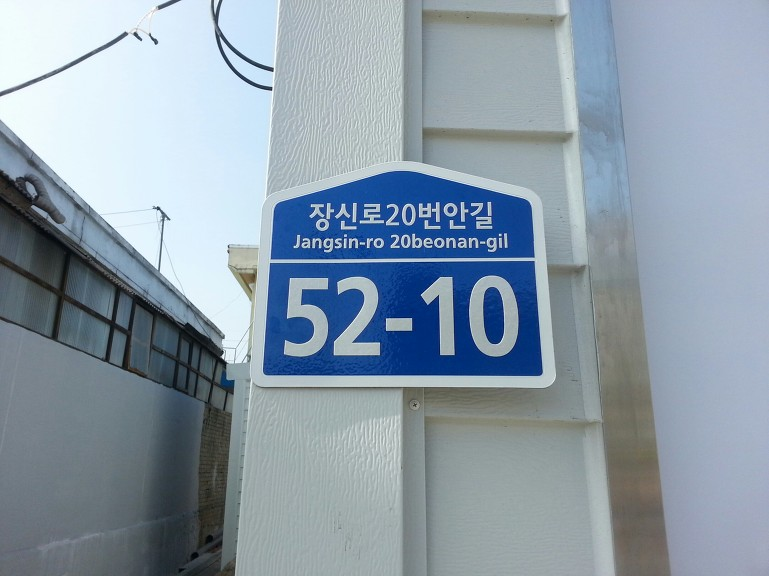building_license_plate1: (250, 158, 556, 388)
